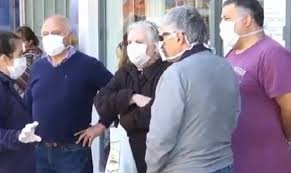barbijo: (216, 20, 256, 47), (124, 39, 157, 67), (1, 53, 30, 79), (39, 33, 72, 53)
